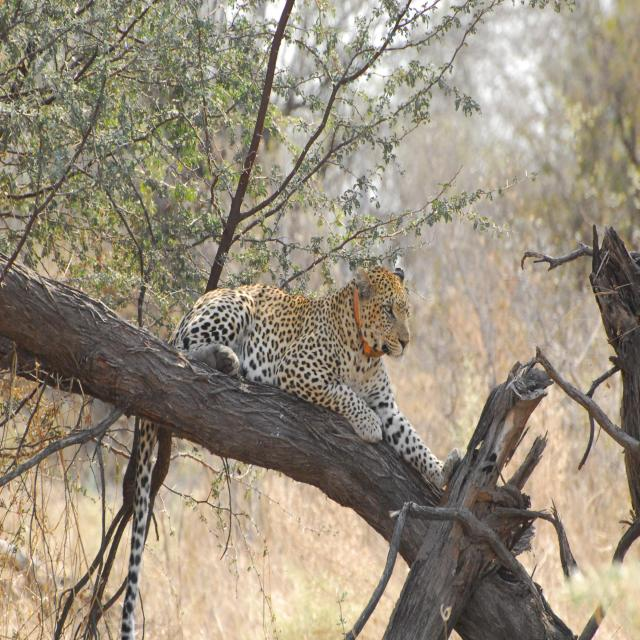Leopard: (129, 249, 476, 640)
